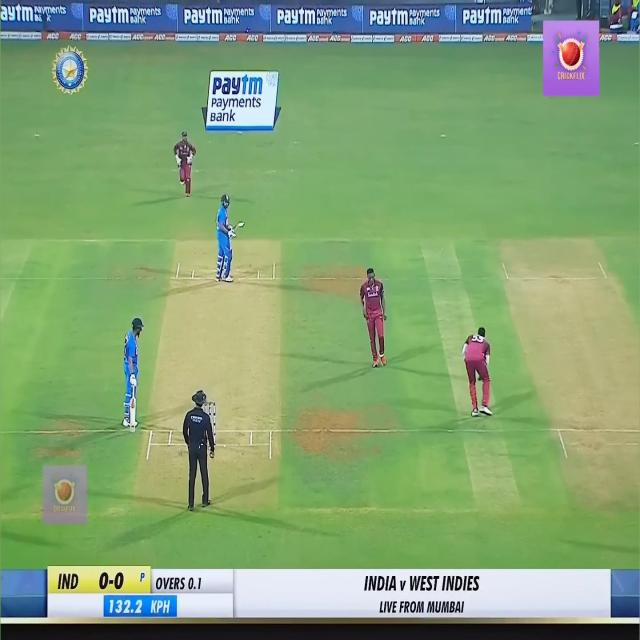fully_visible: (455, 4, 505, 32), (171, 3, 229, 27), (212, 73, 269, 97), (365, 7, 412, 33), (84, 4, 132, 28), (269, 3, 316, 27)
partially_visible: (0, 4, 47, 28)
